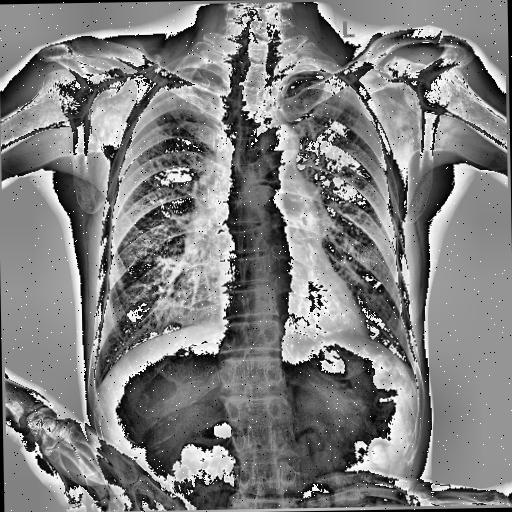0- Aortic enlargement: (258, 124, 302, 168)
11- Pleural thickening: (285, 66, 329, 77)
13- Pulmonary fibrosis: (113, 181, 211, 345), (314, 174, 390, 318)
5- ILD: (122, 158, 216, 344), (113, 181, 211, 345), (107, 190, 197, 352), (314, 174, 390, 318), (314, 154, 384, 304)
